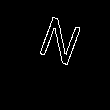N_S: (34, 12, 86, 74)
